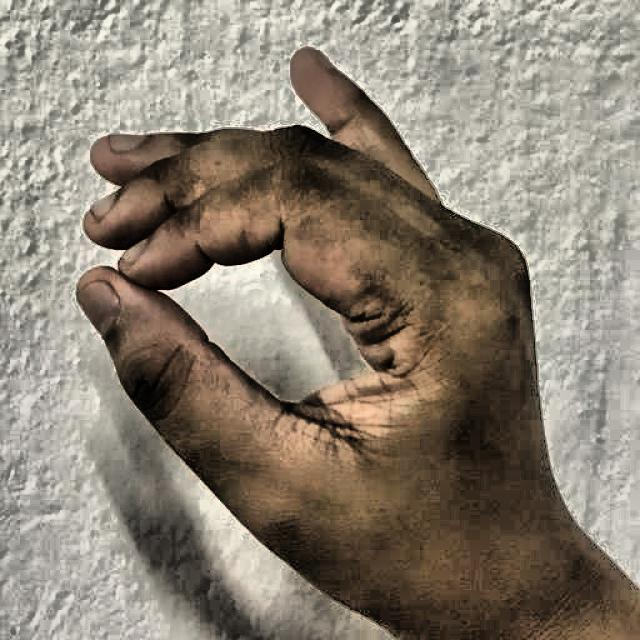Yo: (51, 24, 584, 633)
